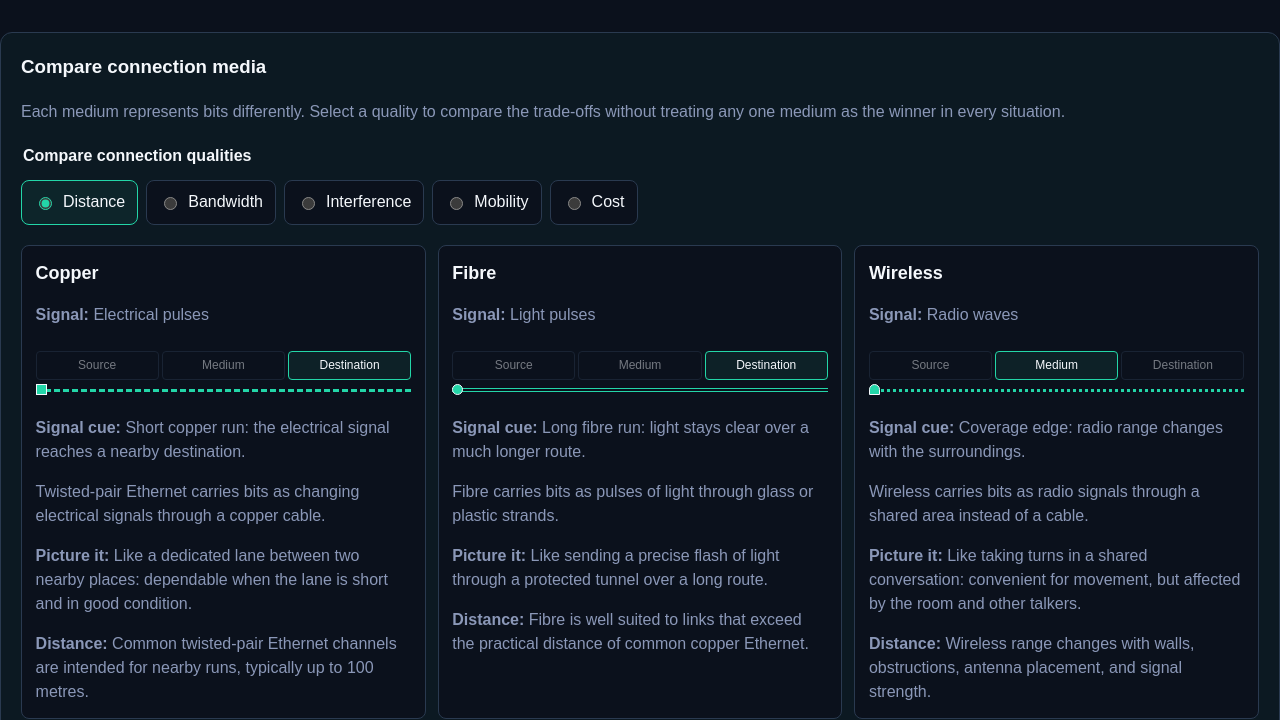
Scenario: ConnectionMediaComparison › updates every medium explanation when a comparison quality is selected
Expected: the heading "Copper" is shown, [36,263,99,283]
Expected: the heading "Fibre" is shown, [452,263,496,283]
What coordinates should you click on to do the following:
click the radio button labelled "Bandwidth"
I would click on:
 (171, 204)
Its box is [164,197,177,210].
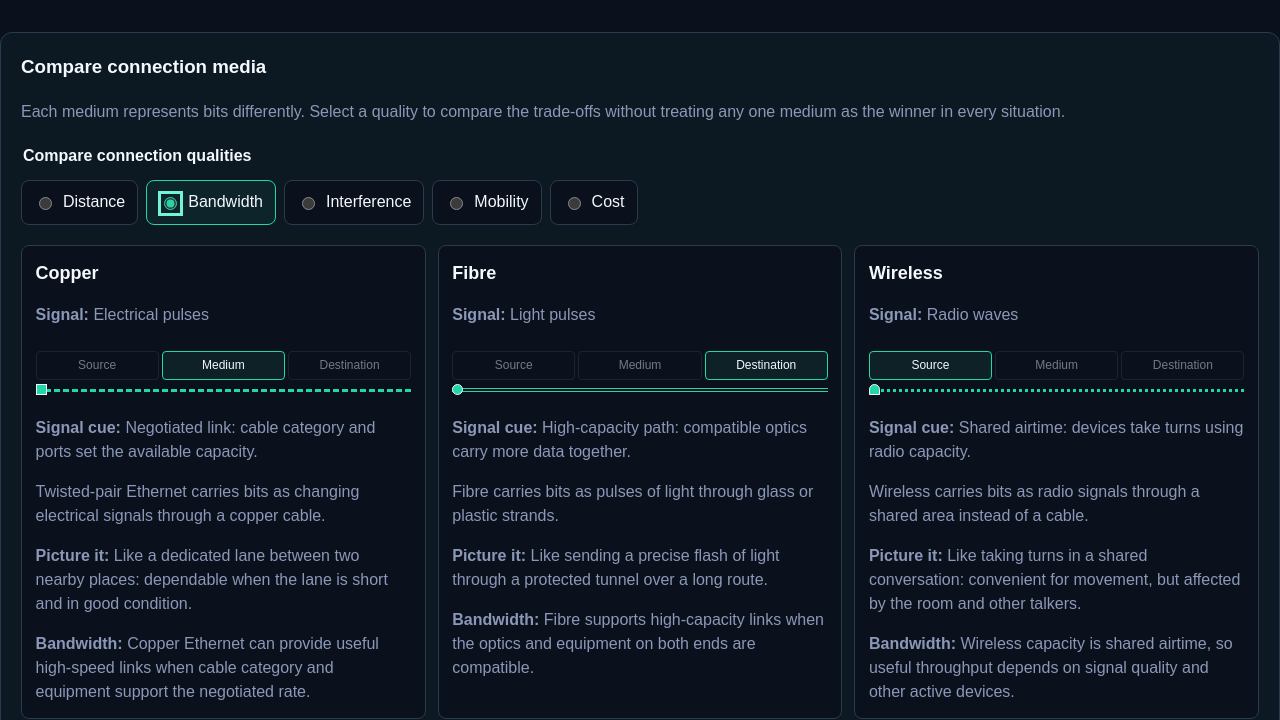
Expected: the text "Copper Ethernet can provide useful high-speed links when cable category and equipment support the negotiated rate." is shown, [36,635,379,700]
Expected: the text "Fibre supports high-capacity links when the optics and equipment on both ends are compatible." is shown, [452,611,824,676]
Expected: the text "Wireless capacity is shared airtime, so useful throughput depends on signal quality and other active devices." is shown, [869,635,1232,700]
What coordinates should you click on to do the following:
click the radio button labelled "Interference"
I would click on:
 (308, 204)
Its box is [302,197,315,210].
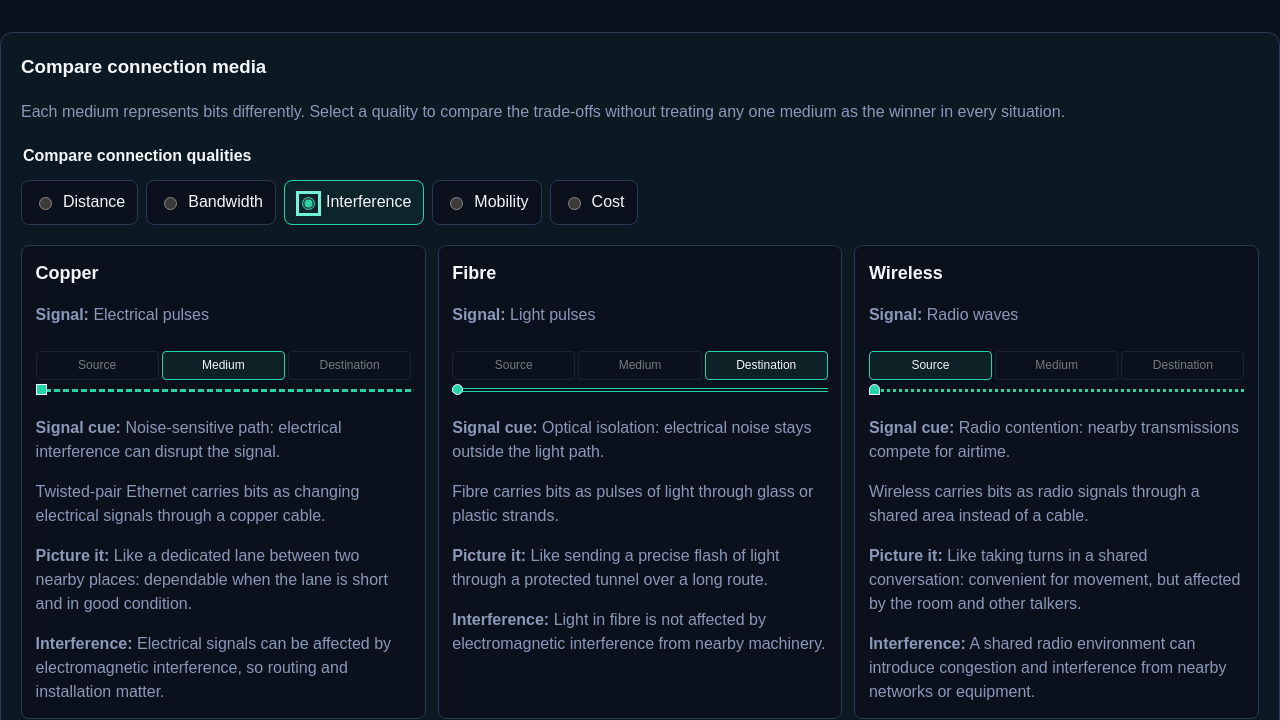
Expected: the text "Electrical signals can be affected by electromagnetic interference, so routing and installation matter." is shown, [36,635,391,700]
Expected: the text "Light in fibre is not affected by electromagnetic interference from nearby machinery." is shown, [452,611,826,652]
Expected: the text "A shared radio environment can introduce congestion and interference from nearby networks or equipment." is shown, [869,635,1226,700]
What coordinates should you click on to do the following:
click the radio button labelled "Mobility"
I would click on:
 (457, 204)
Its box is [450,197,463,210].
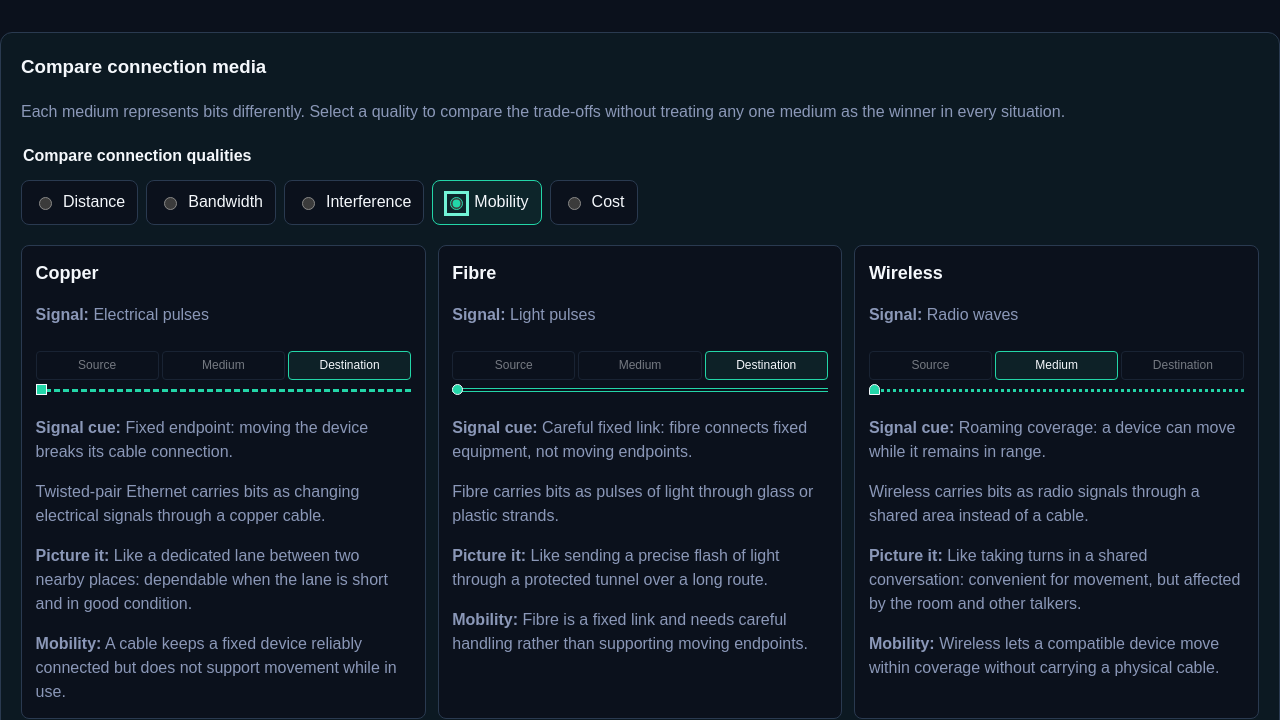
Expected: the text "A cable keeps a fixed device reliably connected but does not support movement while in use." is shown, [36,635,397,700]
Expected: the text "Fibre is a fixed link and needs careful handling rather than supporting moving endpoints." is shown, [452,611,808,652]
Expected: the text "Wireless lets a compatible device move within coverage without carrying a physical cable." is shown, [869,635,1219,676]
What coordinates should you click on to do the following:
click the radio button labelled "Cost"
I would click on:
 (574, 204)
Its box is [568,197,581,210].
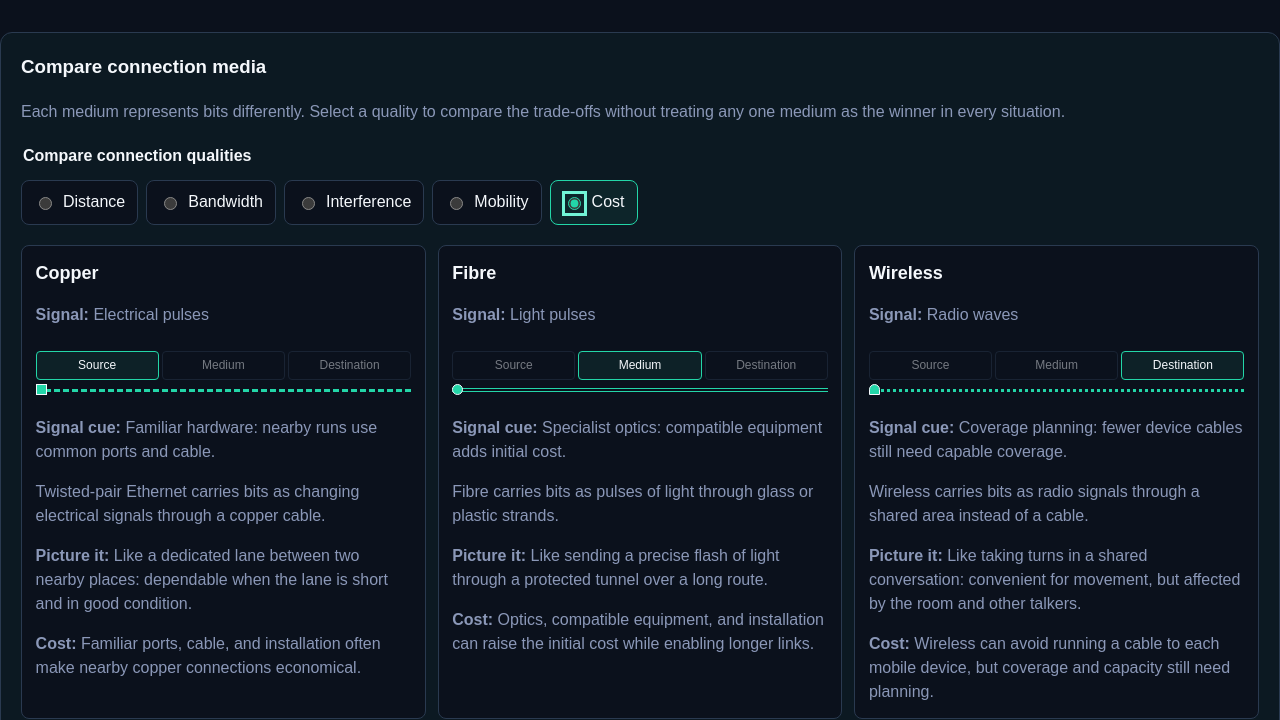
Expected: the text "Familiar ports, cable, and installation often make nearby copper connections economical." is shown, [36,635,381,676]
Expected: the text "Optics, compatible equipment, and installation can raise the initial cost while enabling longer links." is shown, [452,611,824,652]
Expected: the text "Wireless can avoid running a cable to each mobile device, but coverage and capacity still need planning." is shown, [869,635,1230,700]
What coordinates should you click on to do the following:
click the radio button labelled "Distance"
I would click on:
 (46, 204)
Its box is [39,197,52,210].
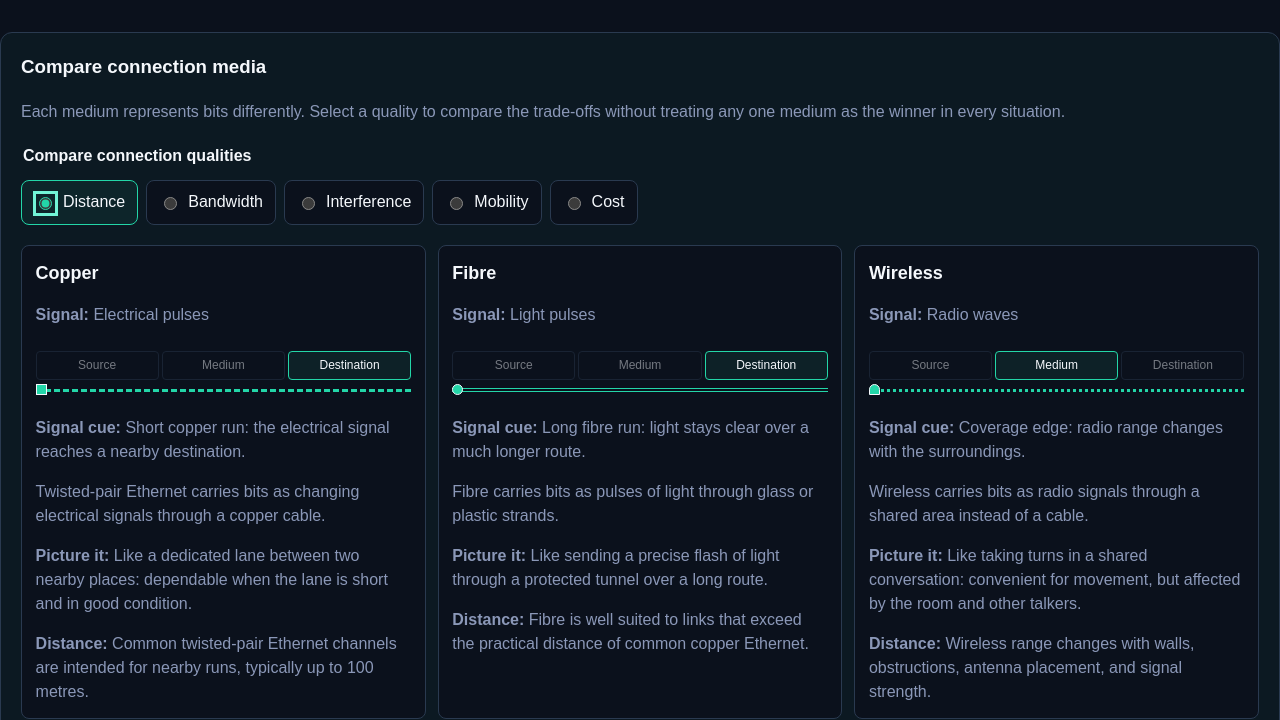
Expected: the text "Common twisted-pair Ethernet channels are intended for nearby runs, typically up to 100 metres." is shown, [36,635,397,700]
Expected: the text "Fibre is well suited to links that exceed the practical distance of common copper Ethernet." is shown, [452,611,809,652]
Expected: the text "Wireless range changes with walls, obstructions, antenna placement, and signal strength." is shown, [869,635,1194,700]
